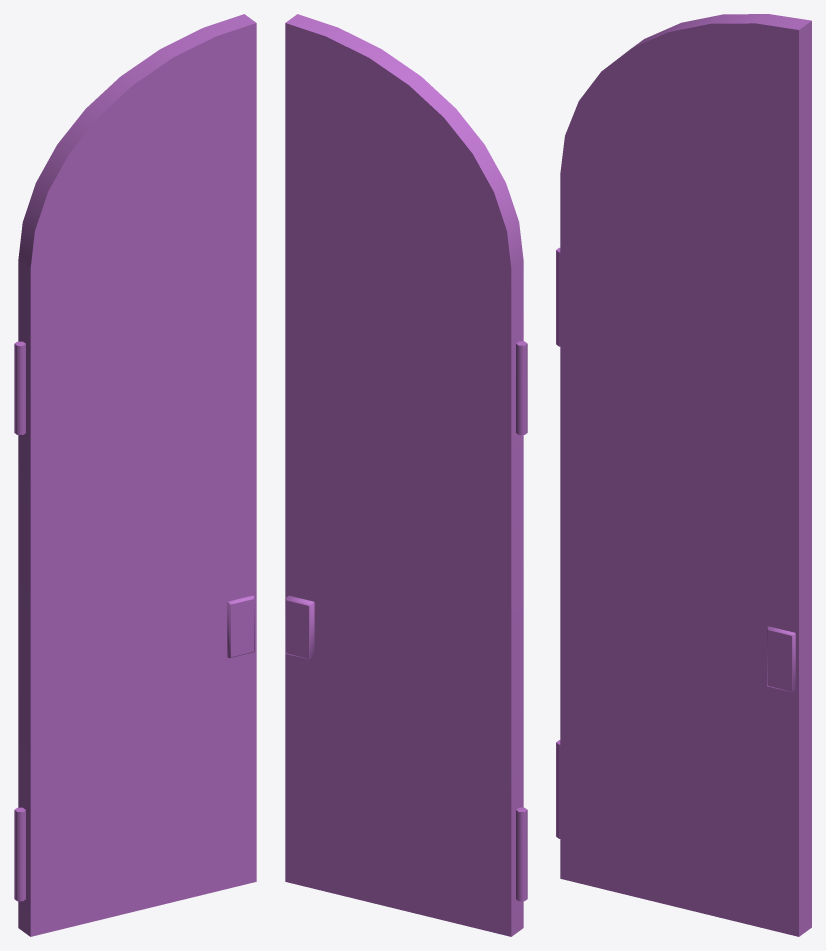
File: Church1_Door_A.fbx
3 views of the same model, side by side, from view 1: azimuth 30°, elevation 25°; view 2: azimuth 150°, elevation 25°; view 3: azimuth 330°, elevation 25° (orthographic). The views are drawn at different scales.
Visible parts, largest first — view 1: Church1_Door_A; view 2: Church1_Door_A; view 3: Church1_Door_A.
Part boxes in pixels (box(x1,y1,x2,y2)): Church1_Door_A: box(14, 14, 256, 936); Church1_Door_A: box(285, 14, 527, 936); Church1_Door_A: box(556, 14, 811, 936).
Bounding box in the file's own units: 1.29 × 4.5 × 0.1733.
